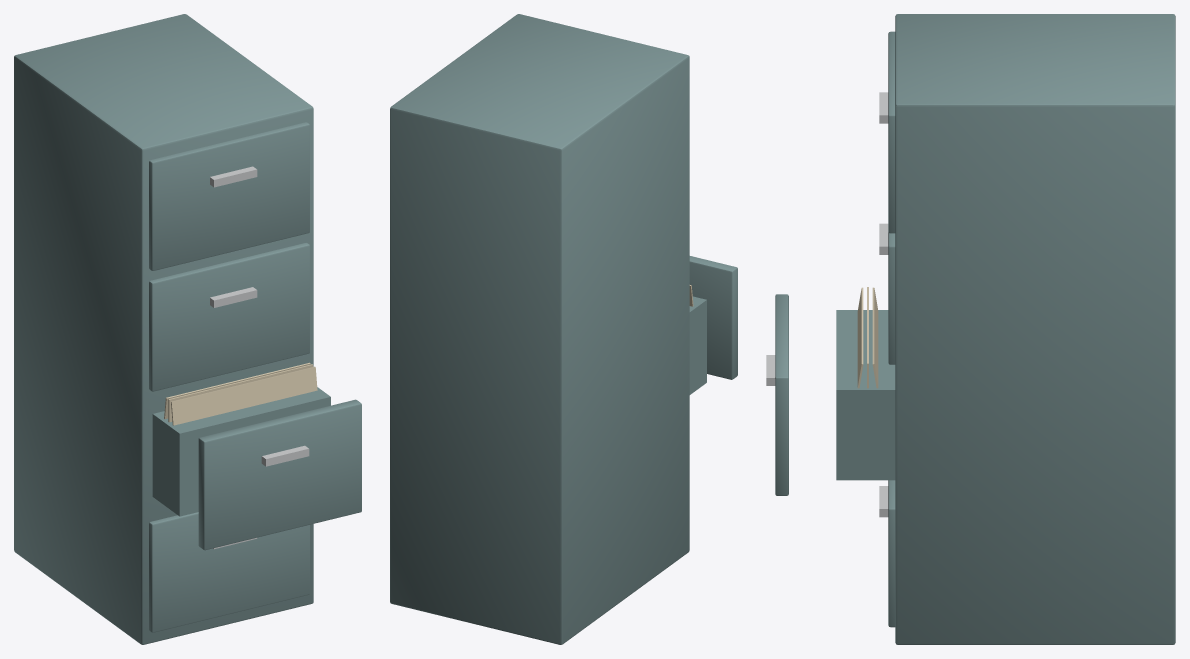
File: filing_cabinet.glb
3 renders of one model, left to right at view 1: azimuth 30°, elevation 25°; view 2: azimuth 150°, elevation 25°; view 3: azimuth 270°, elevation 25°, orthographic. The views are drawn at different scales.
Parts seen in each view (by area): view 1: filing_cabinet; view 2: filing_cabinet; view 3: filing_cabinet.
Part boxes in pixels (<box>): filing_cabinet: <box>14,14,361,644</box>; filing_cabinet: <box>390,14,737,644</box>; filing_cabinet: <box>766,14,1175,644</box>.
Size of what is drawn, in the model's own units: 0.48 by 1.32 by 0.905.
